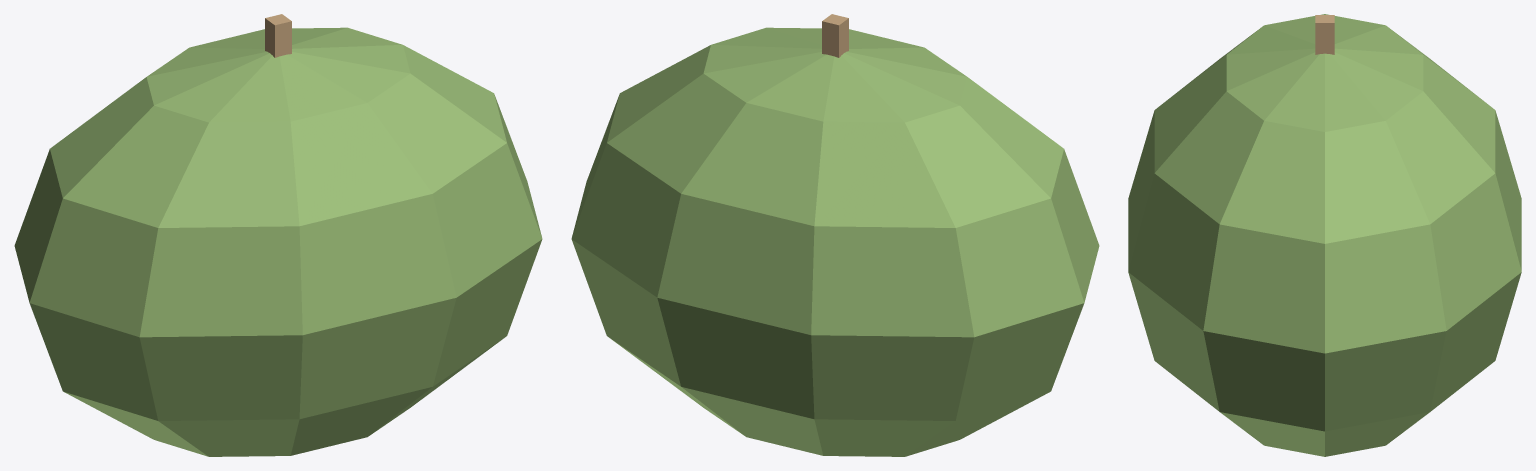
Rendered from supermarket-operations-watermelon-f48e69a9__26907.glb.
The picture shows the model from 3 angles, left to right: view 1: azimuth 30°, elevation 25°; view 2: azimuth 150°, elevation 25°; view 3: azimuth 270°, elevation 25°; orthographic projection. The views are drawn at different scales.
Visible parts, largest first — view 1: watermelon; view 2: watermelon; view 3: watermelon.
Part boxes in pixels (box(x1,y1,x2,y2)): watermelon: box(14, 14, 542, 456); watermelon: box(571, 14, 1099, 456); watermelon: box(1128, 14, 1521, 456).
Size of the model in its own units: 0.351 by 0.28 by 0.2473.
